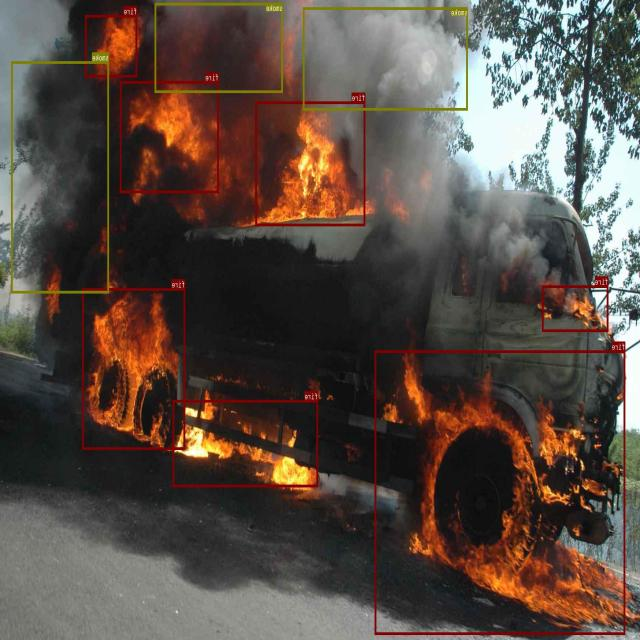fire: (375, 350, 626, 634), (82, 288, 186, 449), (256, 101, 366, 225), (173, 399, 318, 486), (120, 80, 219, 192), (86, 15, 138, 77), (542, 285, 608, 331)
smoke: (12, 61, 109, 293), (304, 7, 468, 110), (156, 2, 284, 92)
